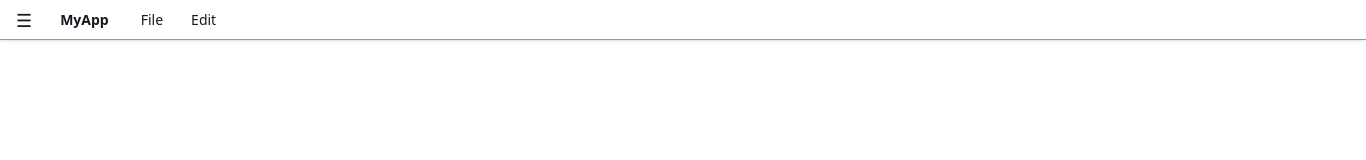
Test: MenuBar › opens app menu dropdown
Click the button "MyApp" at {"x": 84, "y": 20}, box [48,9,121,30]
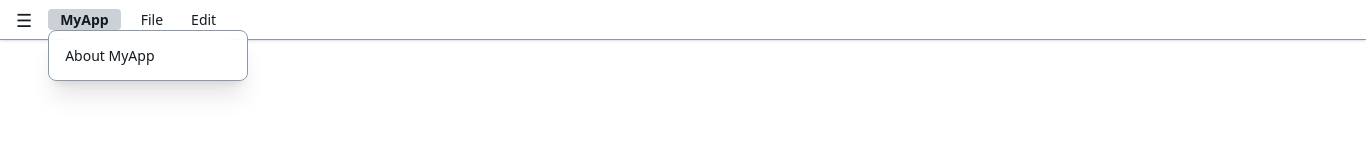
Expected: the text "About MyApp" is shown, [65,45,154,66]
